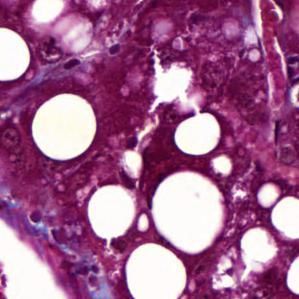steatosis: (31, 92, 98, 162), (124, 242, 186, 299), (1, 28, 32, 82)
